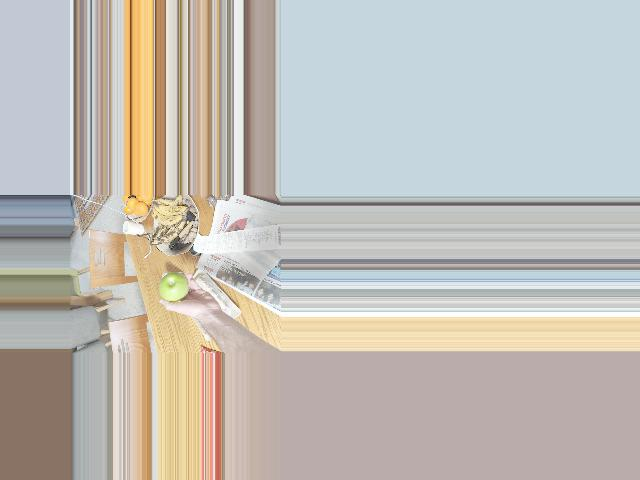apple: (153, 270, 192, 304)
